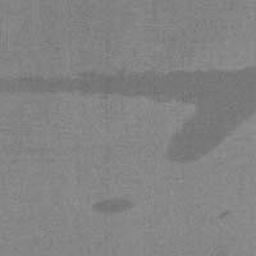Oil spot: (0, 66, 256, 161), (93, 198, 133, 213)
